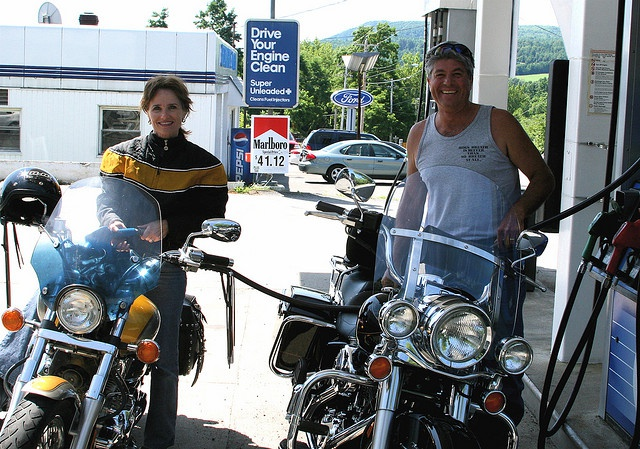non-vehicle: (266, 166, 548, 448), (0, 175, 241, 449)
